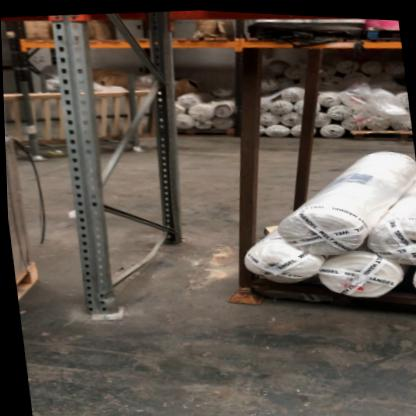vertical_damage: (78, 284, 130, 326)
